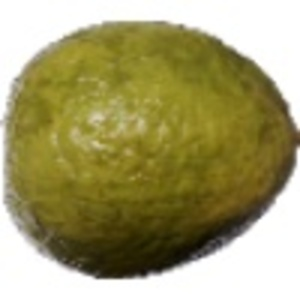goiaba: (3, 13, 297, 286)
